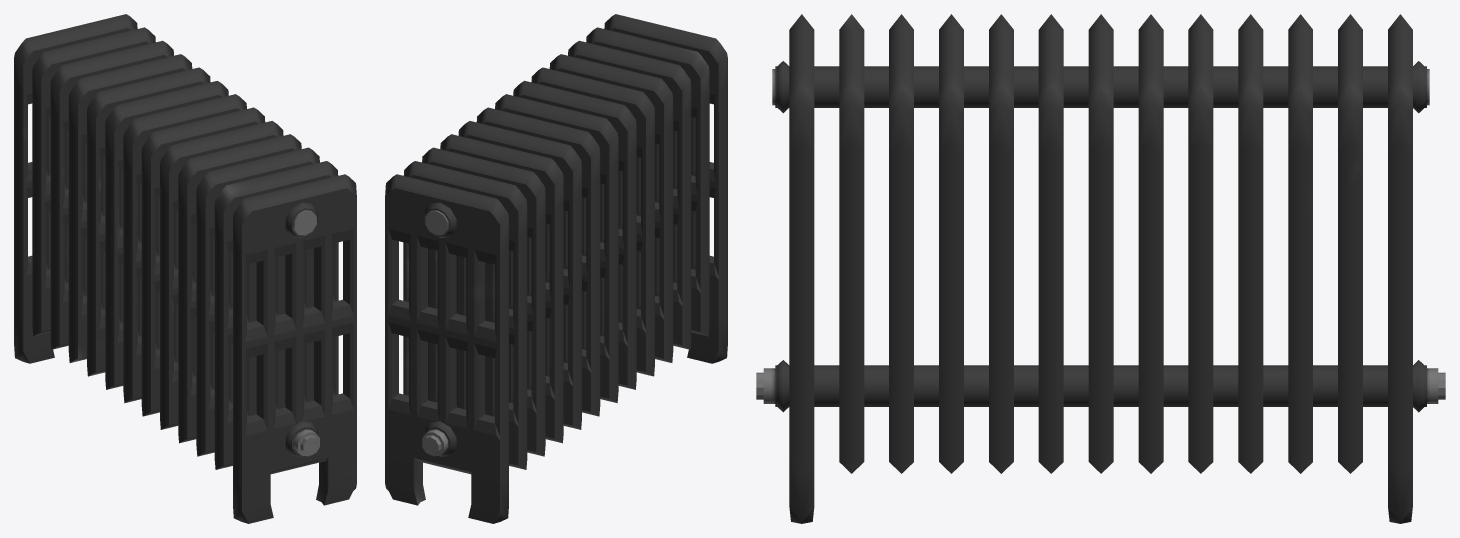
Rendered from radiator texture.fbx.
3 views of the same model, side by side, from view 1: azimuth 30°, elevation 25°; view 2: azimuth 150°, elevation 25°; view 3: azimuth 270°, elevation 25° (orthographic). The views are drawn at different scales.
Parts seen in each view (by area): view 1: pCube17; view 2: pCube17; view 3: pCube17.
Part boxes in pixels (x1,y1,x2,y2): pCube17: [14, 14, 356, 523]; pCube17: [385, 14, 727, 523]; pCube17: [756, 14, 1445, 523].
Bounding box in the file's own units: 7.74 × 19.5 × 27.65.
1 material, 1 textured.
